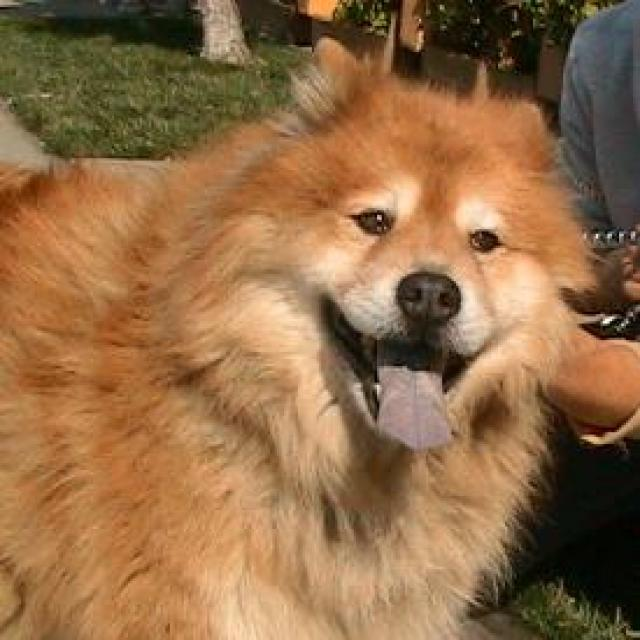Dogs: (0, 35, 638, 638)
